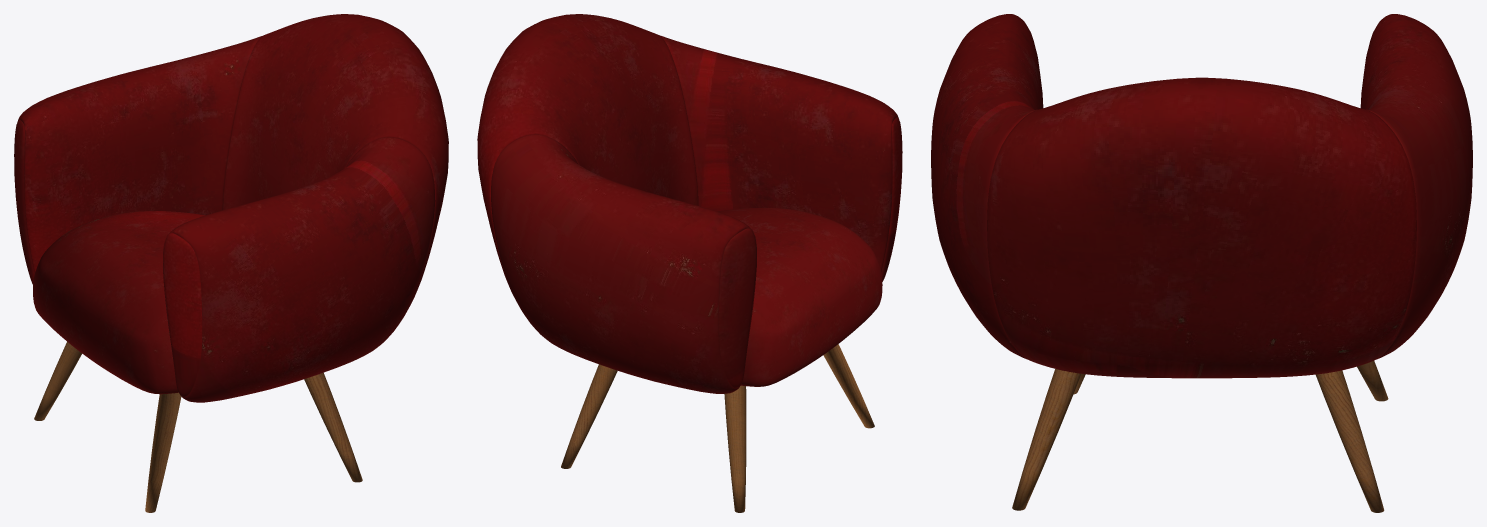
Rendered from sofa_de_cuero_rojo_desgastado.glb.
The picture shows the model from 3 angles, left to right: view 1: azimuth 30°, elevation 25°; view 2: azimuth 150°, elevation 25°; view 3: azimuth 270°, elevation 25°; orthographic projection. The views are drawn at different scales.
Visible parts, largest first — view 1: g (×5); view 2: g (×5); view 3: g (×4).
Part boxes in pixels (bbox=[...]): g (×5): bbox=[14, 14, 448, 512]; g (×5): bbox=[477, 14, 902, 512]; g (×4): bbox=[931, 14, 1472, 512].
Bounding box in the file's own units: 1.8 × 1.96 × 2.
Materials: 3 (3 with a texture image).
